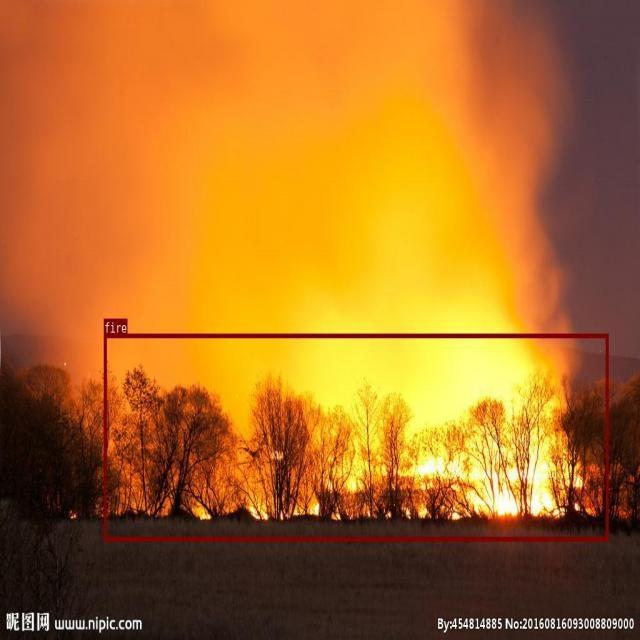fire: (104, 333, 608, 540)
